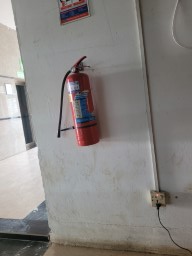fire_extinguisher: (42, 122, 110, 168)
